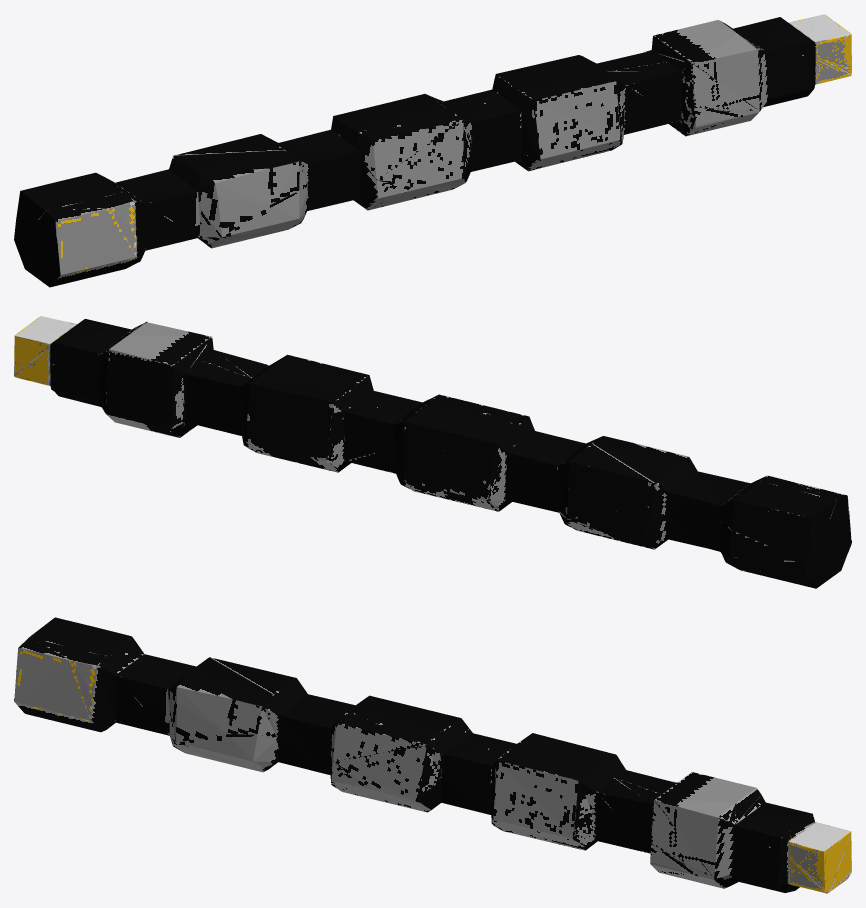
The picture shows the model from 3 angles, top to bottom: view 1: azimuth 30°, elevation 25°; view 2: azimuth 150°, elevation 25°; view 3: azimuth 330°, elevation 25°; orthographic projection.
Parts seen in each view (by area): view 1: OBJ098; view 2: OBJ098; view 3: OBJ098.
Part boxes in pixels (x1,y1,x2,y2): OBJ098: [14, 14, 851, 287]; OBJ098: [14, 316, 851, 588]; OBJ098: [14, 617, 851, 893].
Bounding box in the file's own units: 0.3421 × 0.032 × 0.0349.
1 material, 1 textured.
